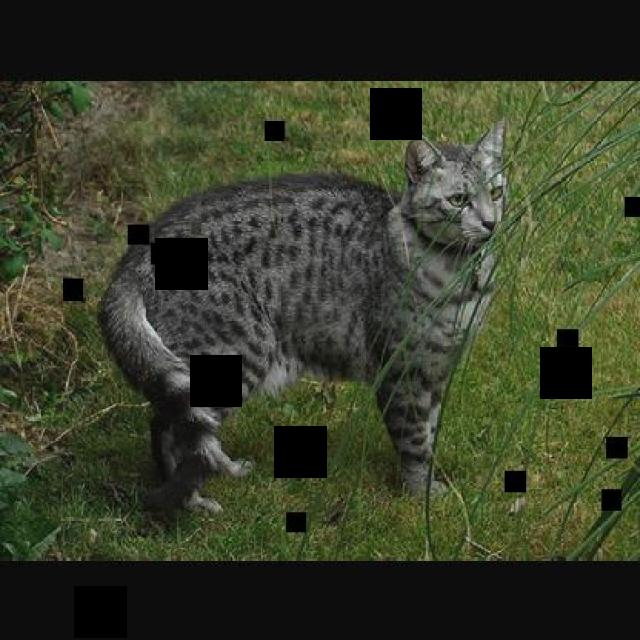unauthorized: (96, 117, 510, 518)
